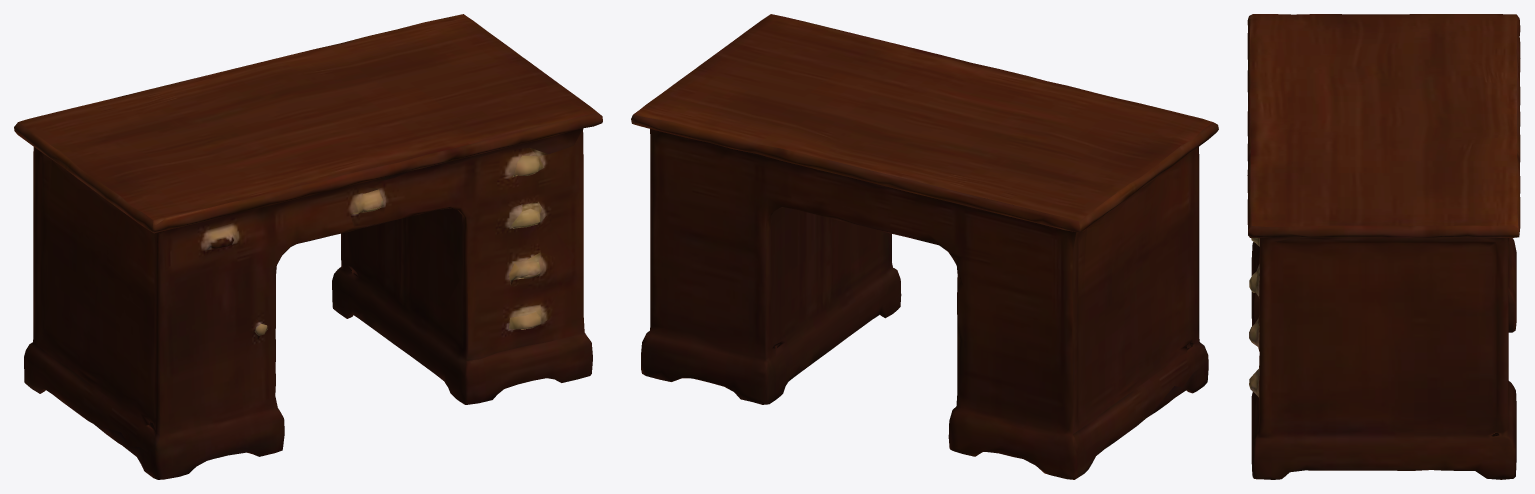
Rendered from escritorio.glb.
The picture shows the model from 3 angles, left to right: view 1: azimuth 30°, elevation 25°; view 2: azimuth 150°, elevation 25°; view 3: azimuth 270°, elevation 25°; orthographic projection. The views are drawn at different scales.
Visible parts, largest first — view 1: geometry_0; view 2: geometry_0; view 3: geometry_0.
Part boxes in pixels (box(x1,y1,x2,y2)): geometry_0: box(14, 14, 602, 479); geometry_0: box(631, 14, 1218, 479); geometry_0: box(1247, 14, 1520, 479).
Size of the model in its own units: 1.4 by 0.78 by 0.75.
Materials: 1 (1 with a texture image).
